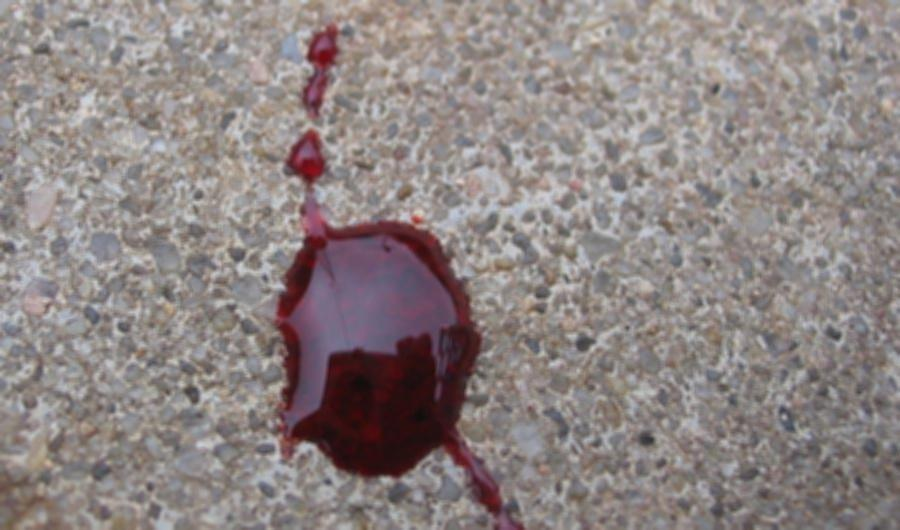Fire: (273, 128, 525, 529), (301, 21, 340, 119)
